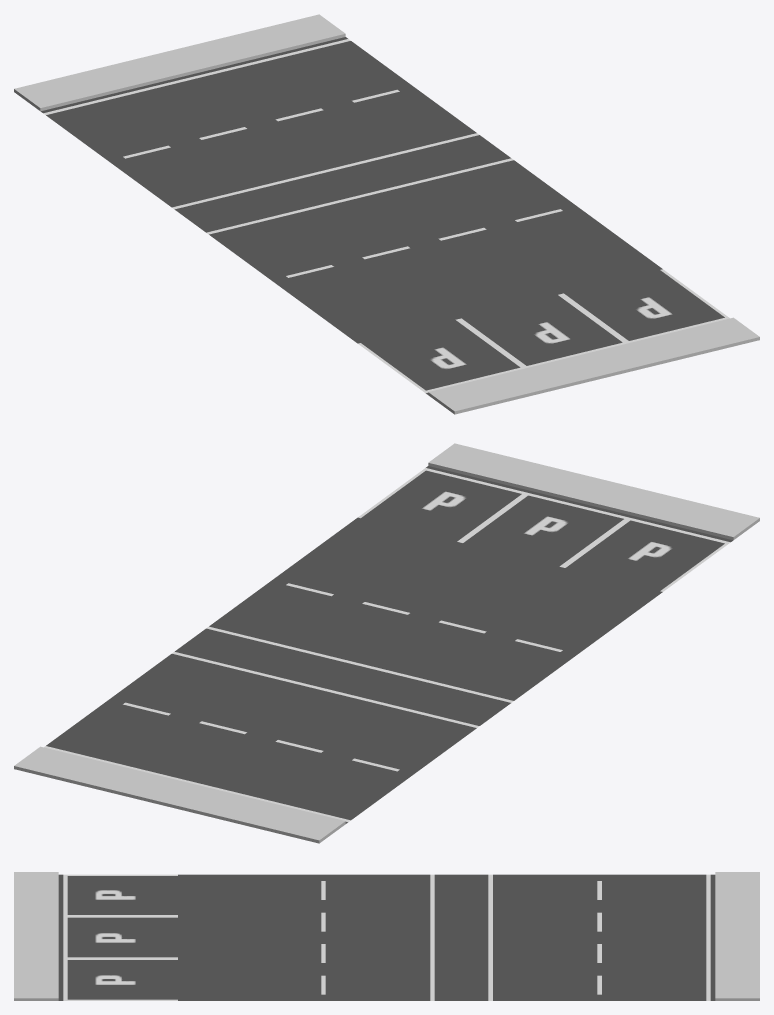
The model's file is SPW_Urban_Road 4way_Side Parking_02.gltf.
The picture shows the model from 3 angles, top to bottom: view 1: azimuth 30°, elevation 25°; view 2: azimuth 150°, elevation 25°; view 3: azimuth 270°, elevation 25°; orthographic projection. The views are drawn at different scales.
Visible parts, largest first — view 1: SPW_Urban_Road_4way_Side_Parking_02; view 2: SPW_Urban_Road_4way_Side_Parking_02; view 3: SPW_Urban_Road_4way_Side_Parking_02.
Part boxes in pixels (left/top/right/bottom): SPW_Urban_Road_4way_Side_Parking_02: left=14, top=14, right=759, bottom=414; SPW_Urban_Road_4way_Side_Parking_02: left=14, top=443, right=759, bottom=843; SPW_Urban_Road_4way_Side_Parking_02: left=14, top=872, right=759, bottom=1000.
Size of the model in its own units: 787 by 7.87 by 1969.
Materials: 1 (1 with a texture image).
